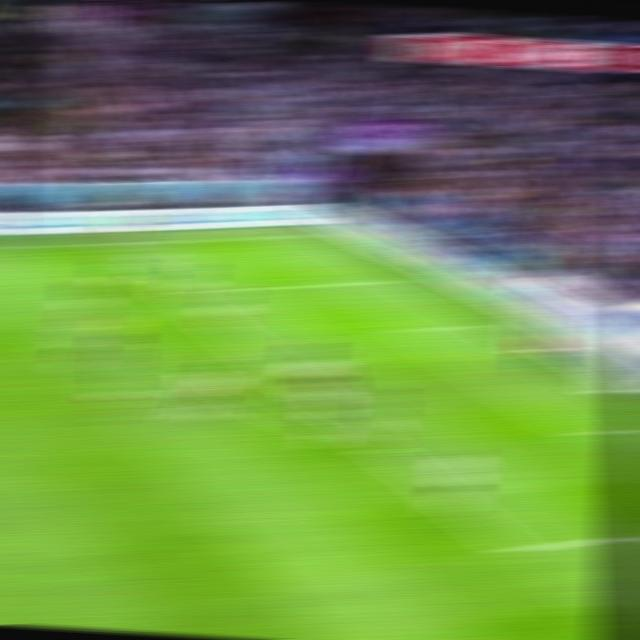bigarea_bottom_inner: (497, 541, 533, 559)
bigarea_top_inner: (165, 289, 195, 299)
bigarea_top_outter: (383, 277, 412, 284)
bottom_arc_area_intersection: (344, 429, 381, 443)
corner: (296, 232, 327, 238)
smallarea_bottom_inner: (564, 424, 598, 442)
smallarea_top_inner: (393, 326, 423, 336)
smallarea_top_outter: (466, 319, 496, 329)
top_arc_area_intersection: (238, 345, 270, 356)
